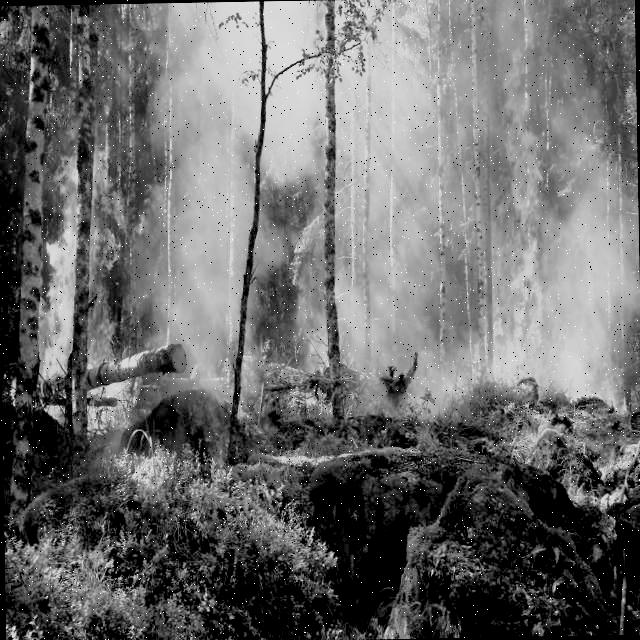api: (36, 144, 140, 446), (492, 36, 560, 392), (586, 333, 636, 428)
asap: (154, 8, 302, 387), (574, 124, 635, 323)
